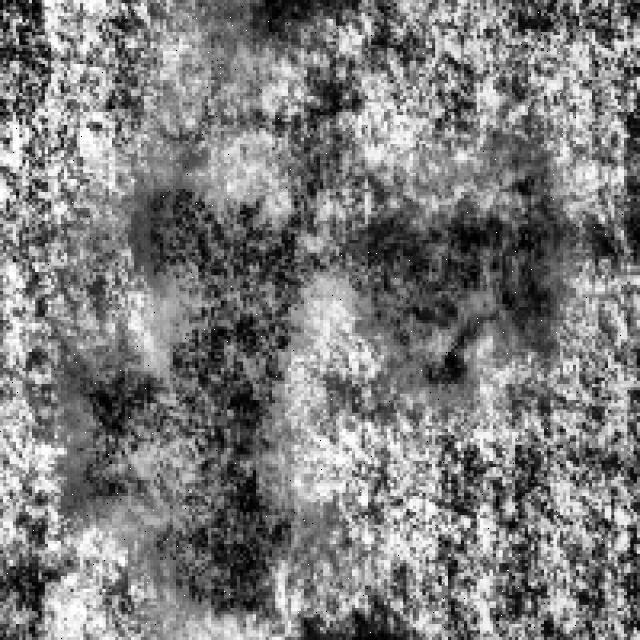Scratches: (70, 160, 327, 605), (320, 150, 576, 390)
